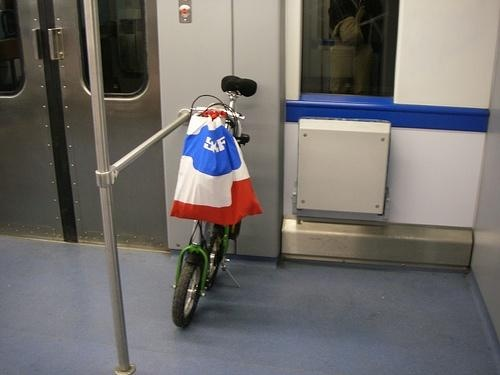bicycle: (170, 74, 261, 331)
